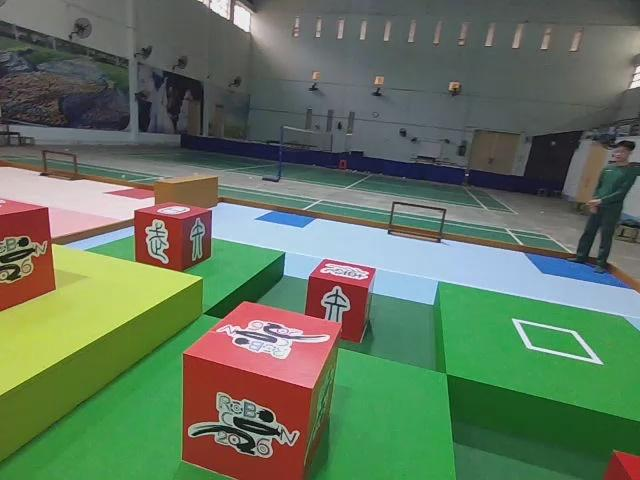R1: (179, 298, 345, 480), (0, 193, 57, 311)
R2 Fake: (303, 255, 378, 344), (133, 198, 215, 271)
